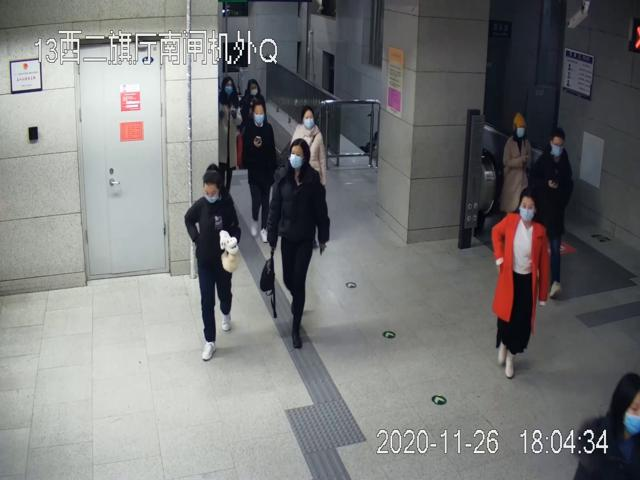person: (269, 139, 329, 348), (184, 164, 242, 361), (492, 188, 549, 380), (533, 128, 573, 302), (244, 102, 274, 244), (287, 105, 327, 185), (504, 111, 533, 209), (219, 77, 243, 194)
